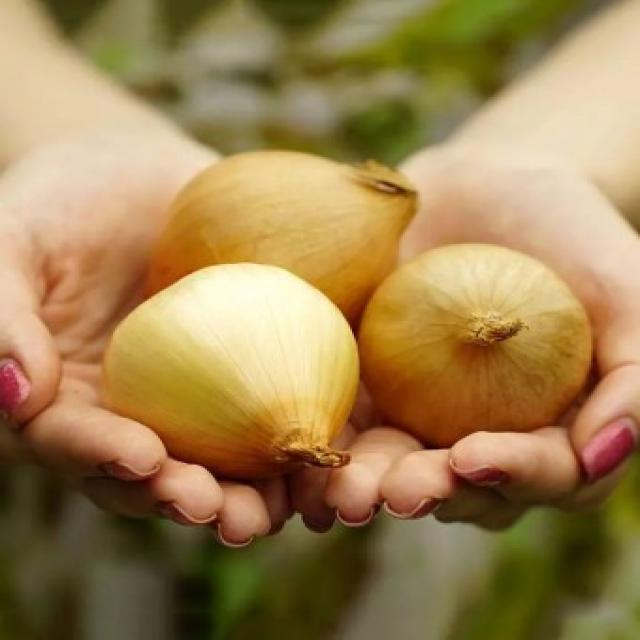onion: (98, 263, 360, 493), (143, 149, 421, 336), (356, 241, 595, 452)
